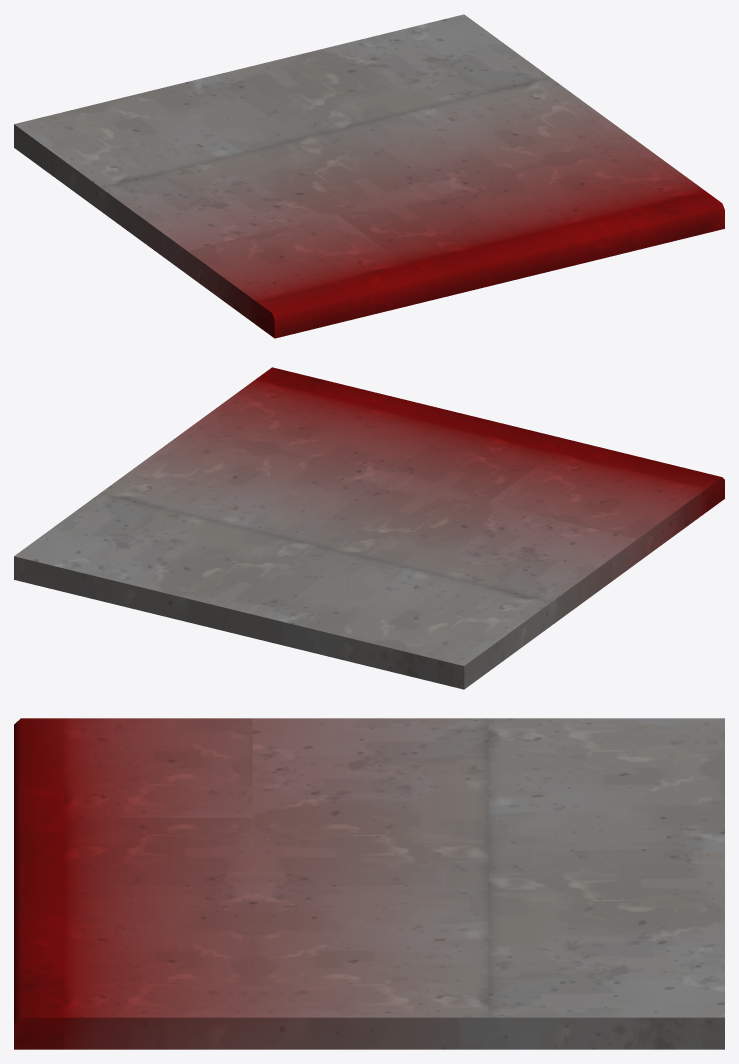
File: Sidewalk_Straight_3m.gltf
3 renders of one model, top to bottom at view 1: azimuth 30°, elevation 25°; view 2: azimuth 150°, elevation 25°; view 3: azimuth 270°, elevation 25°, orthographic. The views are drawn at different scales.
Visible parts, largest first — view 1: Sidewalk_Straight_3m; view 2: Sidewalk_Straight_3m; view 3: Sidewalk_Straight_3m.
Boxes of the visible parts, x1,y1,x2,y2 form: Sidewalk_Straight_3m: (14,14,724,338); Sidewalk_Straight_3m: (14,367,724,689); Sidewalk_Straight_3m: (14,718,724,1049).
Size of the model in its own units: 3 by 0.15 by 3.01.
1 material, 1 textured.
